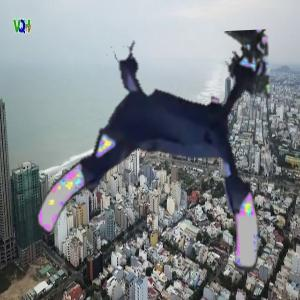drone: (31, 35, 276, 280)
